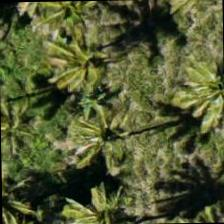Kelapa_Sawit: (43, 18, 135, 110), (146, 38, 224, 130), (11, 0, 102, 61), (60, 174, 153, 223), (1, 164, 52, 223)
